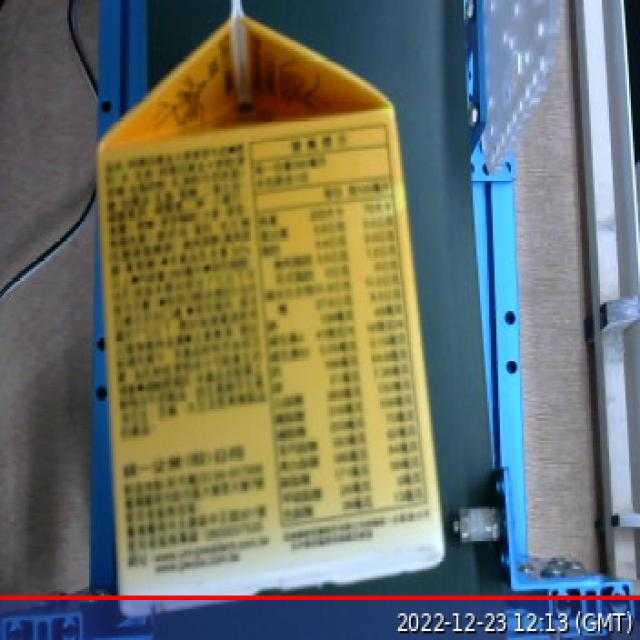non_white_jug: (81, 0, 472, 633)
